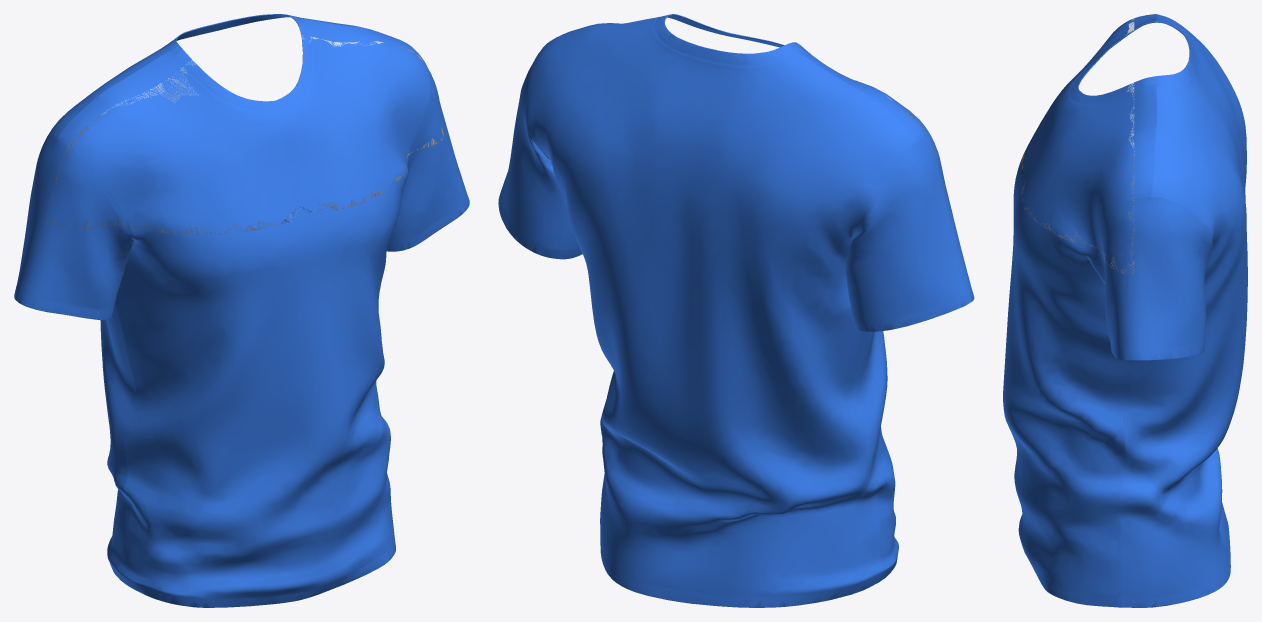
The model's file is design-1762768383572-316634386.glb.
The picture shows the model from 3 angles, left to right: view 1: azimuth 30°, elevation 25°; view 2: azimuth 150°, elevation 25°; view 3: azimuth 270°, elevation 25°; orthographic projection. The views are drawn at different scales.
Size of the model in its own units: 1.1 by 1.23 by 0.5379.
Materials: 2 (1 with a texture image).
